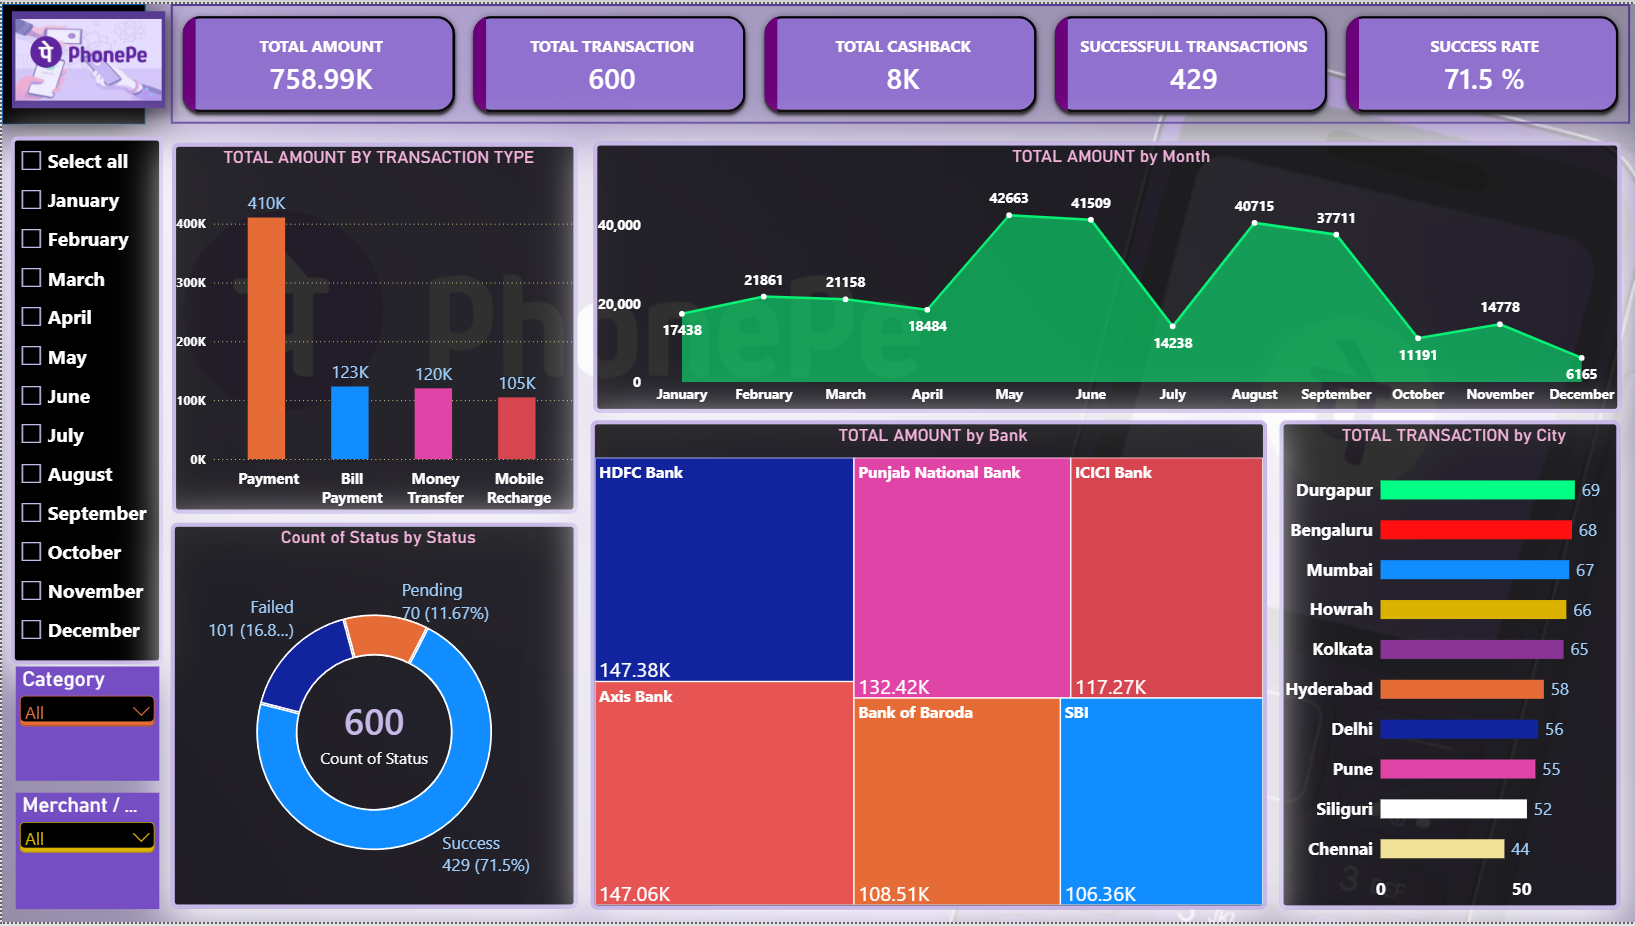

The dashboard page shown, as its layout file describes it:
{"tool":"powerbi","page":{"name":"Page 1","canvas":[1920,1080],"ordinal":0},"visuals":[{"type":"shape","box":[0,0,168.8,141.9],"z":0},{"type":"image","box":[11,9.5,179.8,113.6],"z":1000},{"type":"cardVisual","fields":{"Data":["PHONE_PAY_DATA.TOTAL AMOUNT","PHONE_PAY_DATA.TOTAL TRANSACTION","PHONE_PAY_DATA.TOTAL CASHBACK","PHONE_PAY_DATA.SUCCESSFULL TRANSACTIONS","PHONE_PAY_DATA.SUCCESS RATE"]},"box":[198.6,0,1718.2,141.9],"z":2000},{"type":"slicer","fields":{"Values":["PHONE_PAY_DATA.Transaction Date.Variation.Date Hierarchy.Month"]},"box":[10.6,156,179.1,620.6],"z":3000},{"type":"clusteredColumnChart","title":"TOTAL AMOUNT BY TRANSACTION TYPE","fields":{"Y":["PHONE_PAY_DATA.TOTAL AMOUNT"],"Category":["PHONE_PAY_DATA.Transaction Type"]},"box":[200.4,163.1,477,436.2],"z":4000},{"type":"areaChart","fields":{"Y":["PHONE_PAY_DATA.TOTAL AMOUNT"],"Category":["PHONE_PAY_DATA.Transaction Date.Variation.Date Hierarchy.Month","PHONE_PAY_DATA.Transaction Date.Variation.Date Hierarchy.Day"]},"box":[694.7,161.6,1208.9,319],"z":5000},{"type":"donutChart","fields":{"Category":["PHONE_PAY_DATA.Status"],"Y":["CountNonNull(PHONE_PAY_DATA.Status)"]},"box":[198.6,610,478.8,453.9],"z":6000},{"type":"clusteredBarChart","fields":{"Y":["PHONE_PAY_DATA.TOTAL TRANSACTION"],"Category":["PHONE_PAY_DATA.City"]},"box":[1502.8,489,400.9,575.1],"z":7000},{"type":"treemap","fields":{"Values":["PHONE_PAY_DATA.TOTAL AMOUNT"],"Group":["PHONE_PAY_DATA.Bank"]},"box":[692.6,489,795.5,575.1],"z":8000},{"type":"slicer","fields":{"Values":["PHONE_PAY_DATA.Category"]},"box":[16,778.4,168.5,134.8],"z":9000},{"type":"slicer","fields":{"Values":["PHONE_PAY_DATA.Merchant / Recipient"]},"box":[16,927.4,168.5,136.5],"z":9001}]}

Visuals, with their boxes in screenshot pixels (x1, y1, x2, y2), scaled from the page's 1920x1080 canvas onto the 1635x926 screenshot:
shape: (0, 0, 144, 122)
image: (9, 8, 162, 106)
cardVisual - PHONE_PAY_DATA.TOTAL AMOUNT x PHONE_PAY_DATA.TOTAL TRANSACTION: (169, 0, 1632, 122)
slicer - PHONE_PAY_DATA.Transaction Date.Variation.Date Hierarchy.Month: (9, 134, 162, 666)
"TOTAL AMOUNT BY TRANSACTION TYPE" clusteredColumnChart: (171, 140, 577, 514)
areaChart - PHONE_PAY_DATA.TOTAL AMOUNT x PHONE_PAY_DATA.Transaction Date.Variation.Date Hierarchy.Month: (592, 139, 1621, 412)
donutChart - PHONE_PAY_DATA.Status x CountNonNull(PHONE_PAY_DATA.Status): (169, 523, 577, 912)
clusteredBarChart - PHONE_PAY_DATA.TOTAL TRANSACTION x PHONE_PAY_DATA.City: (1280, 419, 1621, 912)
treemap - PHONE_PAY_DATA.TOTAL AMOUNT x PHONE_PAY_DATA.Bank: (590, 419, 1267, 912)
slicer - PHONE_PAY_DATA.Category: (14, 667, 157, 783)
slicer - PHONE_PAY_DATA.Merchant / Recipient: (14, 795, 157, 912)
